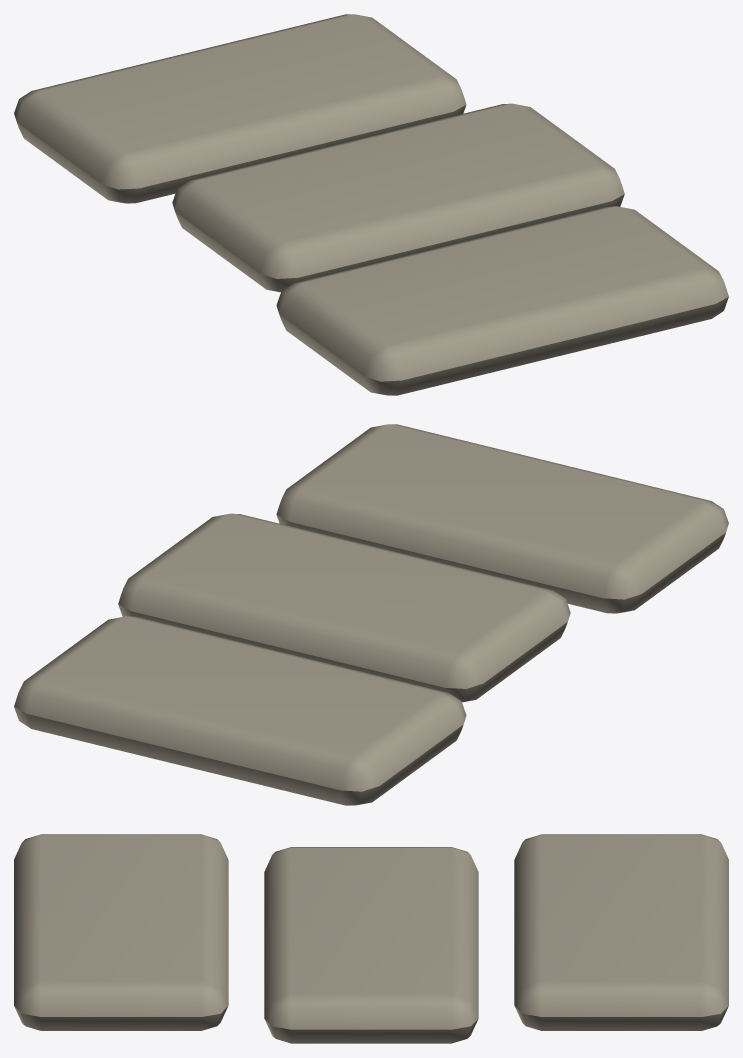
Rendered from SM_Env_PathModule.fbx.
The picture shows the model from 3 angles, top to bottom: view 1: azimuth 30°, elevation 25°; view 2: azimuth 150°, elevation 25°; view 3: azimuth 270°, elevation 25°; orthographic projection. The views are drawn at different scales.
Visible parts, largest first — view 1: Path_slab, Path_slab.002, Path_slab.001; view 2: Path_slab.002, Path_slab, Path_slab.001; view 3: Path_slab.001, Path_slab, Path_slab.002.
Boxes of the visible parts, box(x1,y1,x2,y2) form: Path_slab: box(276, 206, 728, 395); Path_slab.002: box(14, 14, 466, 203); Path_slab.001: box(172, 103, 624, 292); Path_slab.002: box(14, 616, 466, 805); Path_slab: box(276, 424, 728, 613); Path_slab.001: box(118, 513, 570, 702); Path_slab.001: box(264, 847, 478, 1043); Path_slab: box(14, 834, 228, 1030); Path_slab.002: box(514, 834, 728, 1030).
Size of what is drawn, in the model's own units: 72 by 120 by 9.
